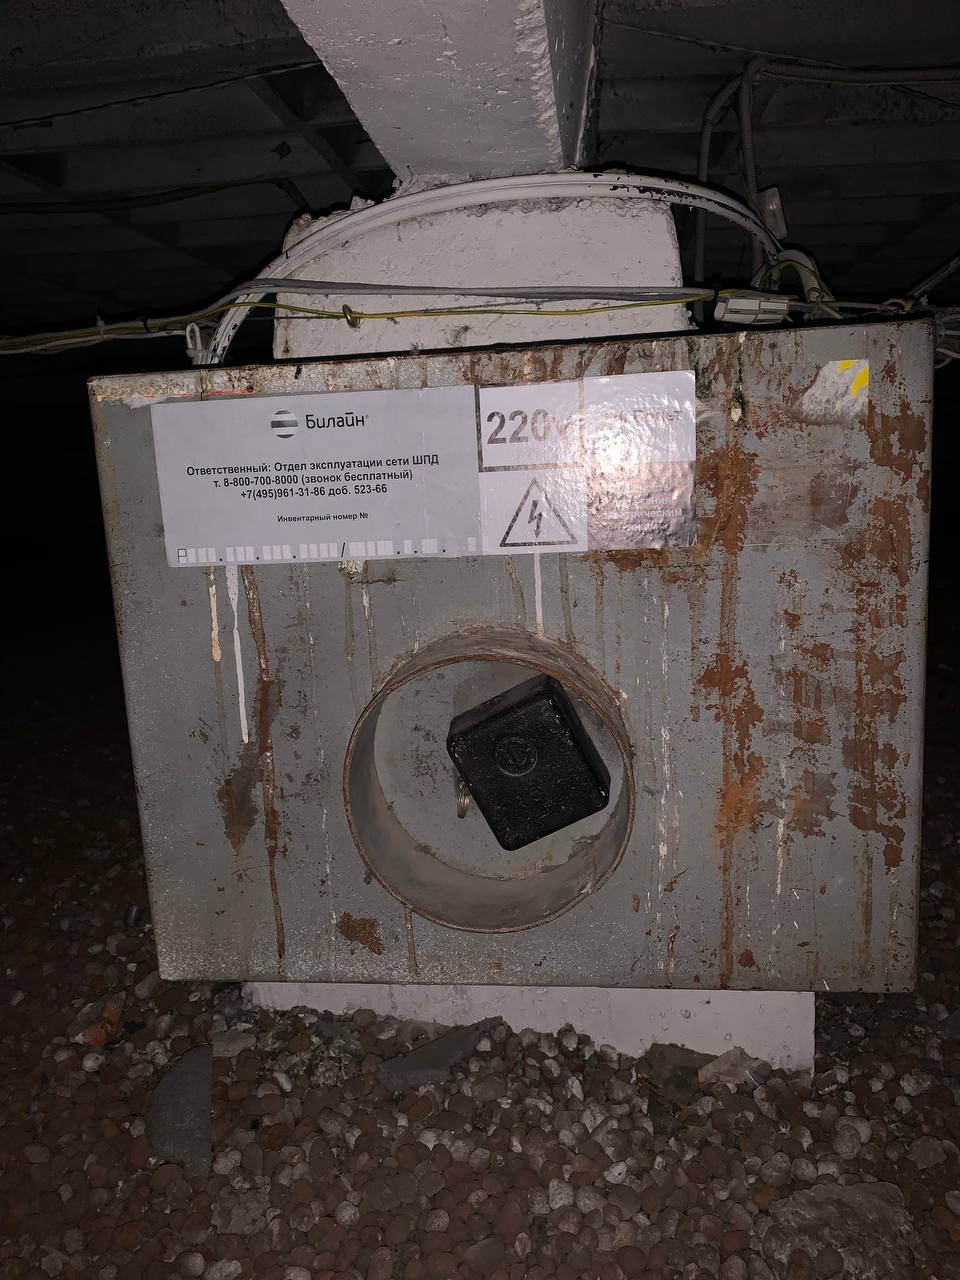shta-3: (82, 311, 935, 999)
